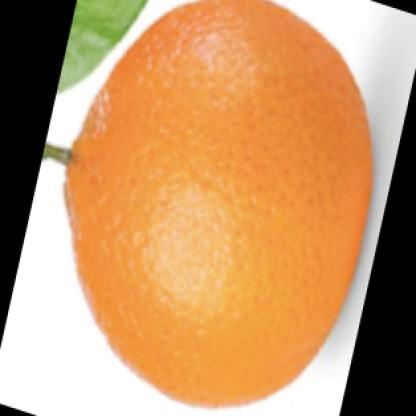fresh: (53, 1, 378, 407)
